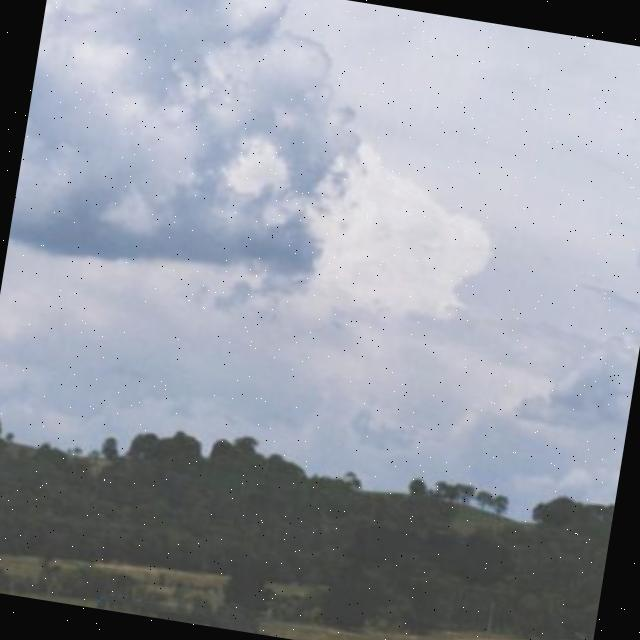Cs: (1, 1, 640, 436)
